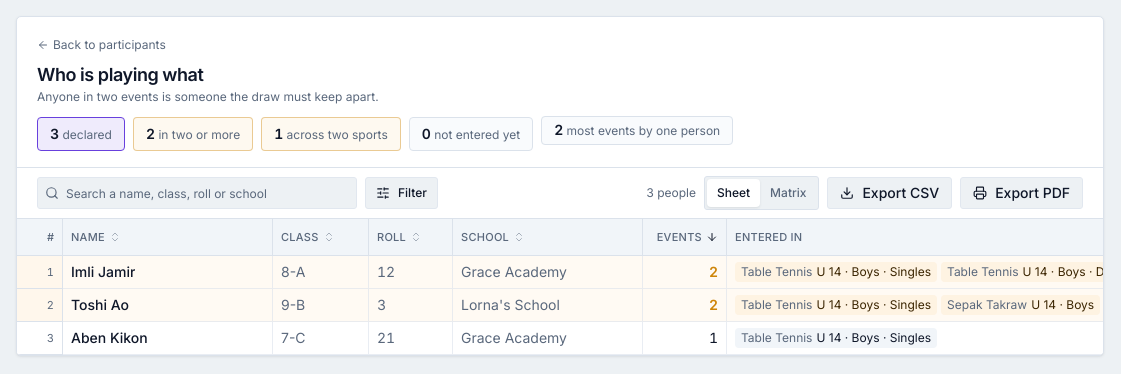
ParticipationPage › narrows again to the people spanning two sports
This screenshot has width=1121, height=374.
What coordinates should you click on to do the following:
click the button with test id "stat-cross-sport"
I would click on:
 (331, 134)
Its box is [261,117,401,151].
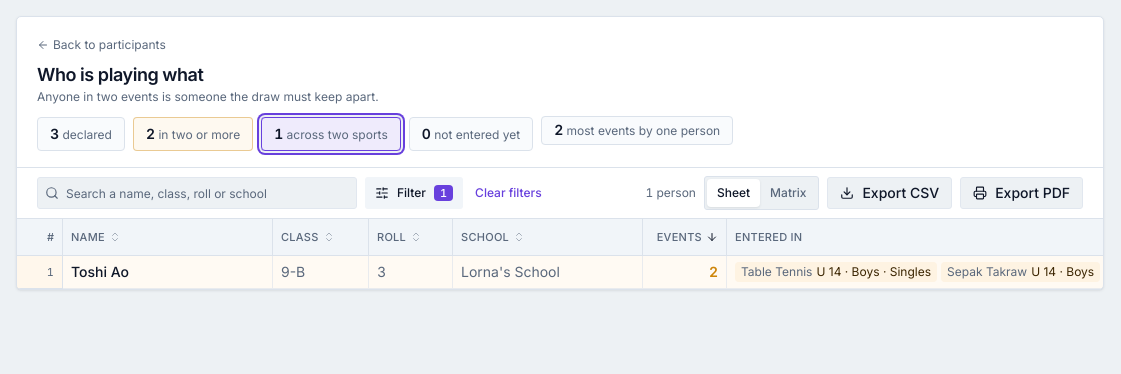
Expected: the row with test id "participation-m2" is shown, [17,256,1103,289]
Expected: the row with test id "participation-m1" is gone
